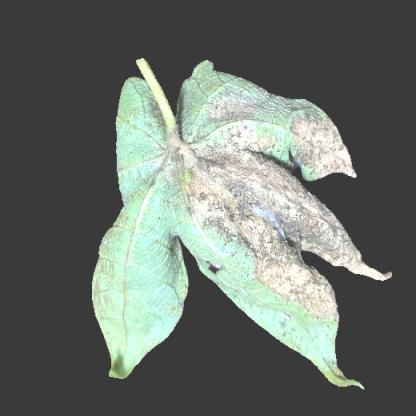curl_stage2: (109, 237, 171, 317), (121, 112, 157, 162)
sooty: (201, 153, 347, 285)
